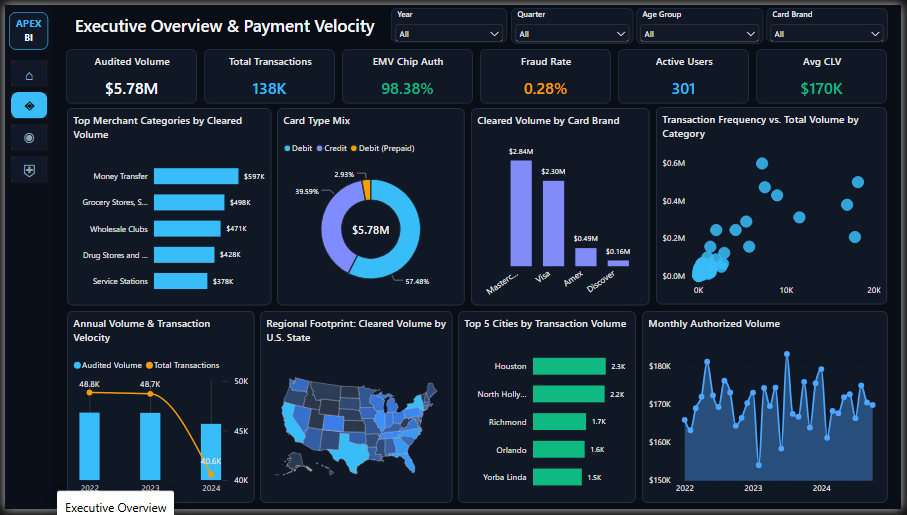

What the dashboard file says about the page in this screenshot:
{"tool":"powerbi","page":{"name":"Executive Overview","canvas":[1280,720],"ordinal":1},"visuals":[{"type":"textbox","box":[0,0,68,720],"z":0},{"type":"textbox","box":[6,10,56,54],"z":1000},{"type":"actionButton","box":[8,78,52,38],"z":2000},{"type":"actionButton","box":[8,124,52,38],"z":3000},{"type":"actionButton","box":[8,170,52,38],"z":4000},{"type":"actionButton","box":[8,216,52,38],"z":5000},{"type":"textbox","box":[94.4,13.3,438.6,46.5],"z":6000},{"type":"slicer","fields":{"Values":["Calendar.Year"]},"box":[551.9,4,166.3,49.2],"z":7000},{"type":"slicer","fields":{"Values":["Calendar.Quarter"]},"box":[722.2,4,175.5,50.5],"z":8000},{"type":"slicer","fields":{"Values":["cards_data.card_brand"]},"box":[1087.1,4,174.3,49.2],"z":9000},{"type":"card","title":"Audited Volume","fields":{"Values":["transactions_data.Audited Volume"]},"box":[87.7,63,187,78],"z":10000},{"type":"slicer","fields":{"Values":["users_data.Age Group"]},"box":[901.2,4,182.1,50.5],"z":11000},{"type":"card","title":"Total Transactions","fields":{"Values":["transactions_data.Total Transactions"]},"box":[284.9,62.8,187,78],"z":12000},{"type":"card","title":"EMV Chip Auth","fields":{"Values":["transactions_data.EMV Chip Auth"]},"box":[481.9,62.8,187,78],"z":13000},{"type":"card","title":"Fraud Rate","fields":{"Values":["transactions_data.Fraud Rate"]},"box":[678.9,62.8,187,78],"z":14000},{"type":"card","title":"Active Users","fields":{"Values":["transactions_data.Active Users"]},"box":[875.9,62.8,187,78],"z":15000},{"type":"areaChart","title":"Monthly Authorized Volume","fields":{"Category":["Calendar.Date.Variation.Date Hierarchy.Year","Calendar.Date.Variation.Date Hierarchy.Month"],"Y":["transactions_data.Audited Volume"]},"box":[909.9,436.5,351.5,273.5],"z":16000},{"type":"card","title":"Avg CLV","fields":{"Values":["users_data.Avg CLV"]},"box":[1072.9,62.8,187,78],"z":17000},{"type":"clusteredBarChart","title":"Top Merchant Categories by Cleared Volume","fields":{"Category":["mcc_codes.Description"],"Y":["transactions_data.Audited Volume"]},"box":[87.9,147.4,292,282],"z":18000},{"type":"donutChart","title":"Card Type Mix","fields":{"Category":["cards_data.card_type"],"Y":["transactions_data.Audited Volume"]},"box":[388.3,147.4,267.9,282],"z":19000},{"type":"scatterChart","title":"Transaction Frequency vs. Total Volume by Category","fields":{"Category":["mcc_codes.Description"],"X":["transactions_data.Total Transactions"],"Y":["transactions_data.Total Transaction Amount"]},"box":[929.8,145.6,330.2,282],"z":20000},{"type":"shapeMap","title":"Regional Footprint: Cleared Volume by U.S. State","fields":{"Category":["transactions_data.merchant_state"],"Value":["transactions_data.Audited Volume"]},"box":[364.3,436.5,275,273.5],"z":21000},{"type":"lineStackedColumnComboChart","title":"Annual Volume & Transaction Velocity","fields":{"Category":["Calendar.Year","Calendar.Quarter"],"Y":["transactions_data.Audited Volume"],"Y2":["transactions_data.Total Transactions"]},"box":[87.9,436.5,267.9,273.5],"z":22000},{"type":"clusteredColumnChart","title":"Cleared Volume by Card Brand","fields":{"Category":["cards_data.card_brand"],"Y":["transactions_data.Audited Volume"]},"box":[666.1,147.4,255.1,282],"z":24000},{"type":"clusteredBarChart","title":"Top 5 Cities by Transaction Volume","fields":{"Category":["transactions_data.merchant_city"],"Y":["CountNonNull(transactions_data.use_chip)"]},"box":[647.7,436.5,253.7,273.5],"z":24001}]}

Visuals, with their boxes in screenshot pixels (x1, y1, x2, y2), scaled from the page's 1280x720 canvas onto the 907x515 screenshot:
textbox: (0, 0, 48, 514)
textbox: (4, 7, 44, 46)
actionButton: (6, 56, 43, 83)
actionButton: (6, 89, 43, 116)
actionButton: (6, 122, 43, 149)
actionButton: (6, 154, 43, 182)
textbox: (67, 10, 378, 43)
slicer - Calendar.Year: (391, 3, 509, 38)
slicer - Calendar.Quarter: (512, 3, 636, 39)
slicer - cards_data.card_brand: (770, 3, 894, 38)
"Audited Volume" card: (62, 45, 195, 101)
slicer - users_data.Age Group: (639, 3, 768, 39)
"Total Transactions" card: (202, 45, 334, 101)
"EMV Chip Auth" card: (341, 45, 474, 101)
"Fraud Rate" card: (481, 45, 614, 101)
"Active Users" card: (621, 45, 753, 101)
"Monthly Authorized Volume" areaChart: (645, 312, 894, 508)
"Avg CLV" card: (760, 45, 893, 101)
"Top Merchant Categories by Cleared Volume" clusteredBarChart: (62, 105, 269, 307)
"Card Type Mix" donutChart: (275, 105, 465, 307)
"Transaction Frequency vs. Total Volume by Category" scatterChart: (659, 104, 893, 306)
"Regional Footprint: Cleared Volume by U.S. State" shapeMap: (258, 312, 453, 508)
"Annual Volume & Transaction Velocity" lineStackedColumnComboChart: (62, 312, 252, 508)
"Cleared Volume by Card Brand" clusteredColumnChart: (472, 105, 653, 307)
"Top 5 Cities by Transaction Volume" clusteredBarChart: (459, 312, 639, 508)
